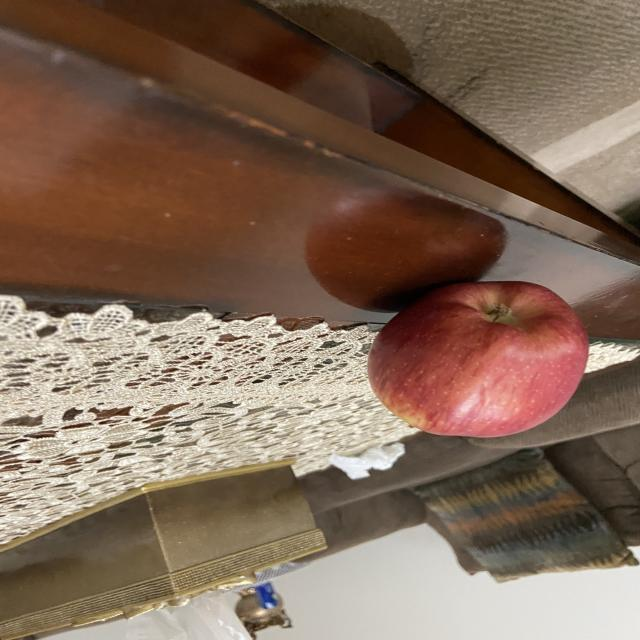apple: (367, 272, 593, 442)
